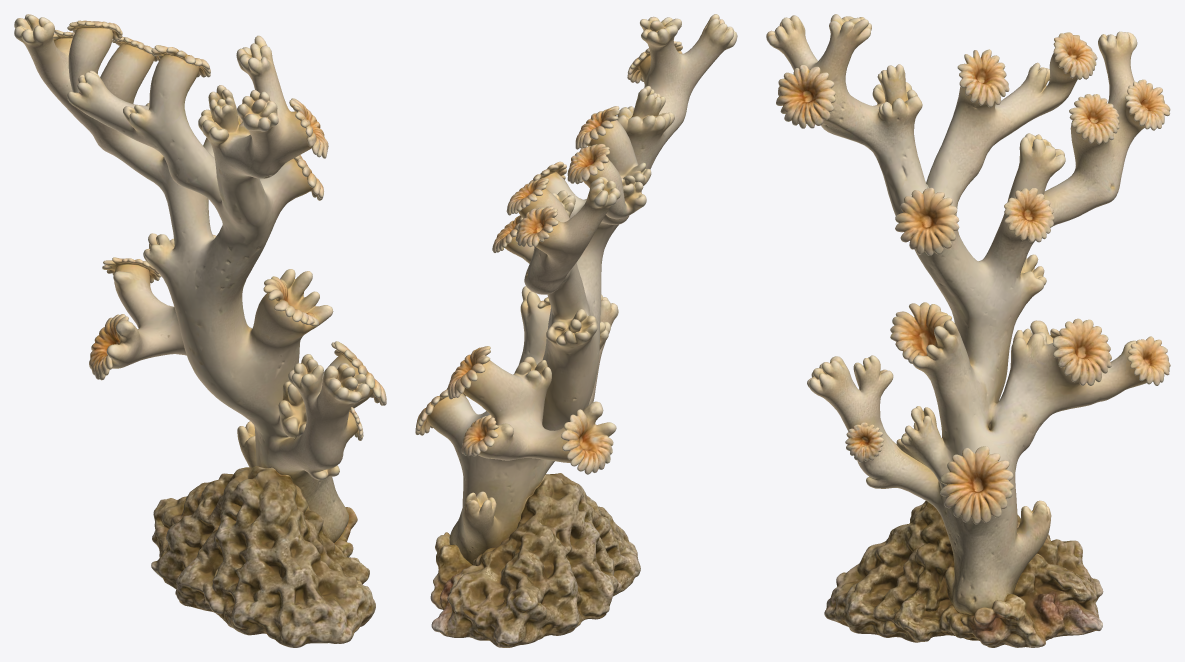
3 renders of one model, left to right at view 1: azimuth 30°, elevation 25°; view 2: azimuth 150°, elevation 25°; view 3: azimuth 270°, elevation 25°, orthographic. The views are drawn at different scales.
Size of the model in its own units: 0.4949 by 0.9998 by 0.6457.
1 material, 1 textured.
